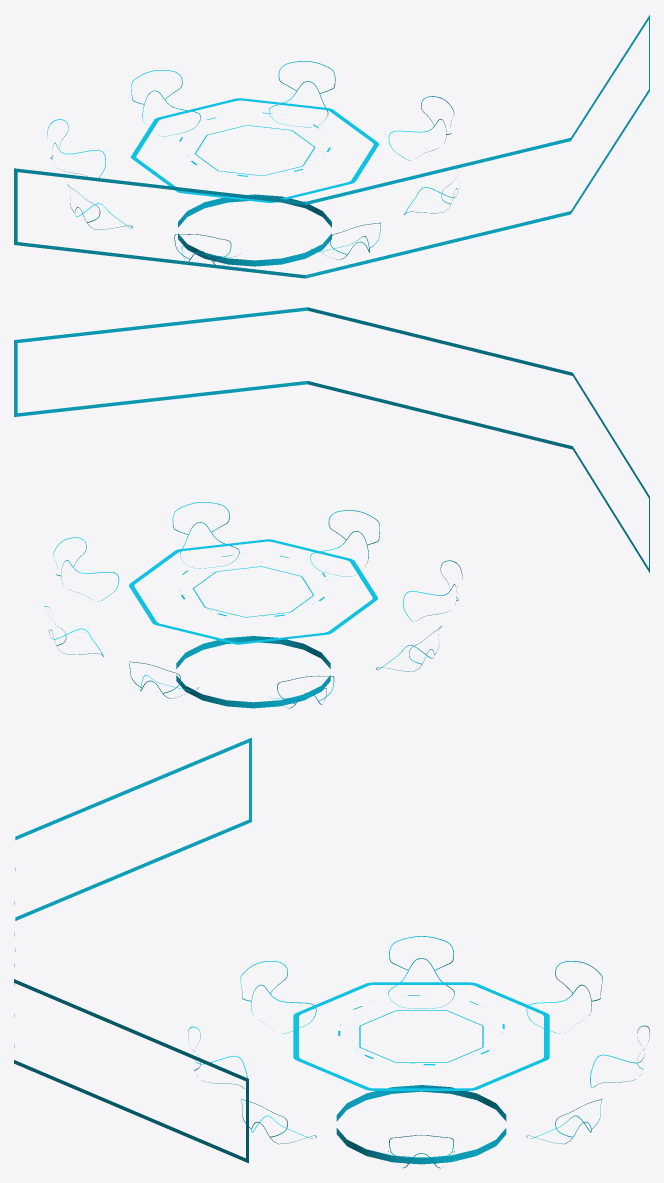
Rendered from 24_Glow_2_Realsize.FBX.
3 views of the same model, one above another, from view 1: azimuth 30°, elevation 25°; view 2: azimuth 150°, elevation 25°; view 3: azimuth 270°, elevation 25° (orthographic). The views are drawn at different scales.
Parts seen in each view (by area): view 1: Glow_2_Realsize; view 2: Glow_2_Realsize; view 3: Glow_2_Realsize.
Part boxes in pixels (box(x1,y1,x2,y2)): Glow_2_Realsize: box(14, 15, 649, 278); Glow_2_Realsize: box(14, 307, 649, 708); Glow_2_Realsize: box(14, 737, 649, 1168).
Size of the model in its own units: 612 by 184 by 482.
